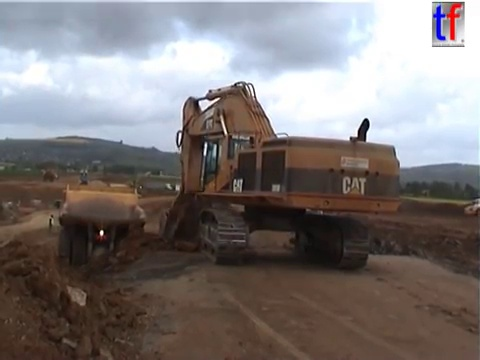excavator: (156, 79, 403, 271)
truck: (52, 182, 148, 266), (287, 202, 339, 260), (462, 197, 480, 218), (145, 181, 173, 193)
worker: (46, 212, 55, 234), (41, 168, 55, 182)
